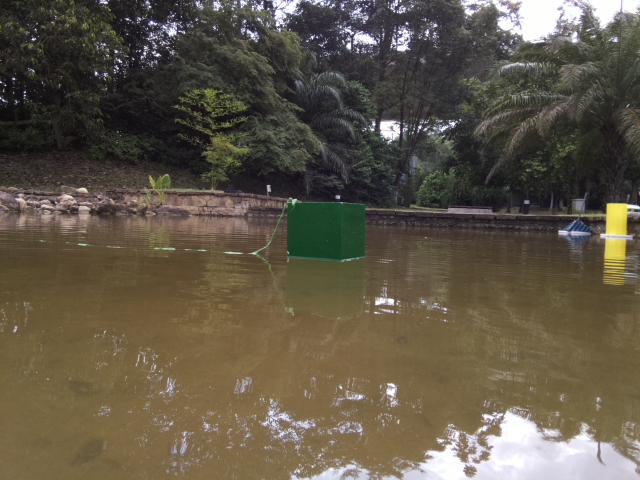obstacle: (286, 201, 367, 263)
